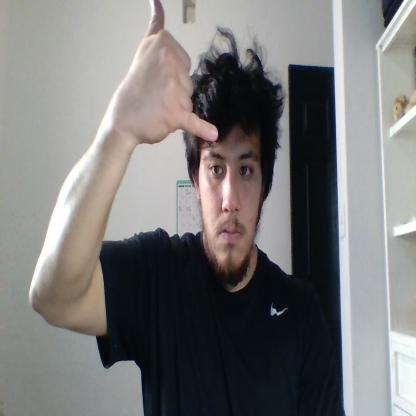Y: (128, 0, 218, 146)
